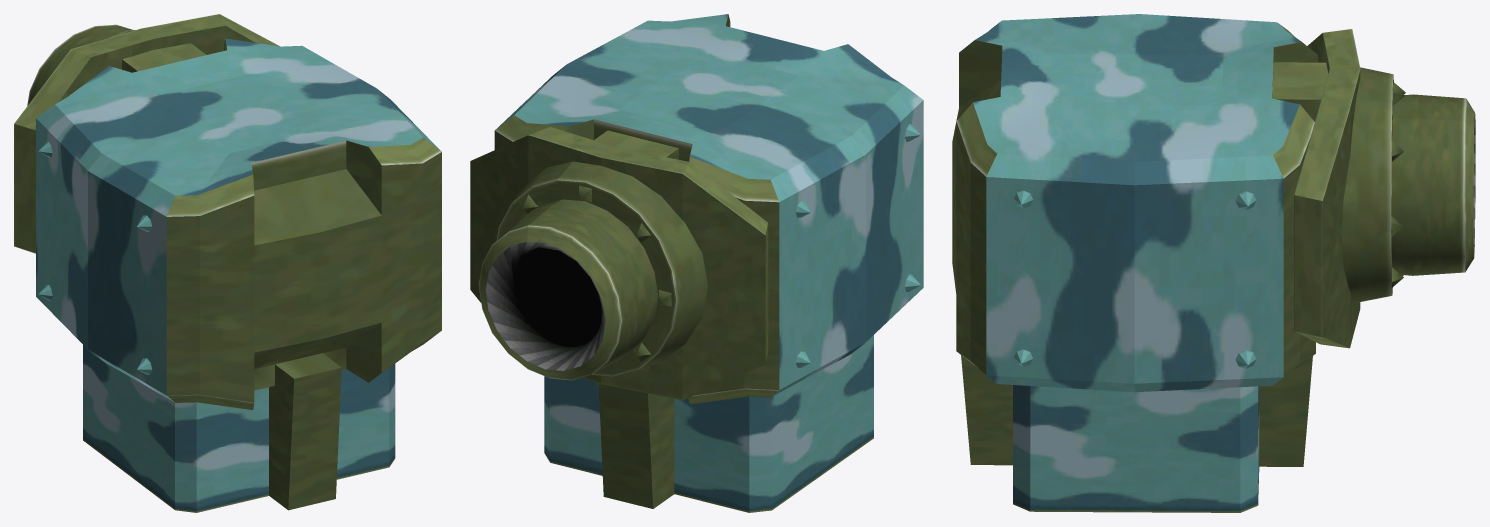
Rendered from Shooter.fbx.
The picture shows the model from 3 angles, left to right: view 1: azimuth 30°, elevation 25°; view 2: azimuth 150°, elevation 25°; view 3: azimuth 270°, elevation 25°; orthographic projection. The views are drawn at different scales.
Visible parts, largest first — view 1: mesh-10.001; view 2: mesh-10.001; view 3: mesh-10.001.
Part boxes in pixels (x1,y1,x2,y2): mesh-10.001: (14, 14, 441, 512); mesh-10.001: (470, 14, 923, 512); mesh-10.001: (952, 14, 1475, 512).
Size of the model in its own units: 419 by 456 by 562.
Materials: 1 (1 with a texture image).
